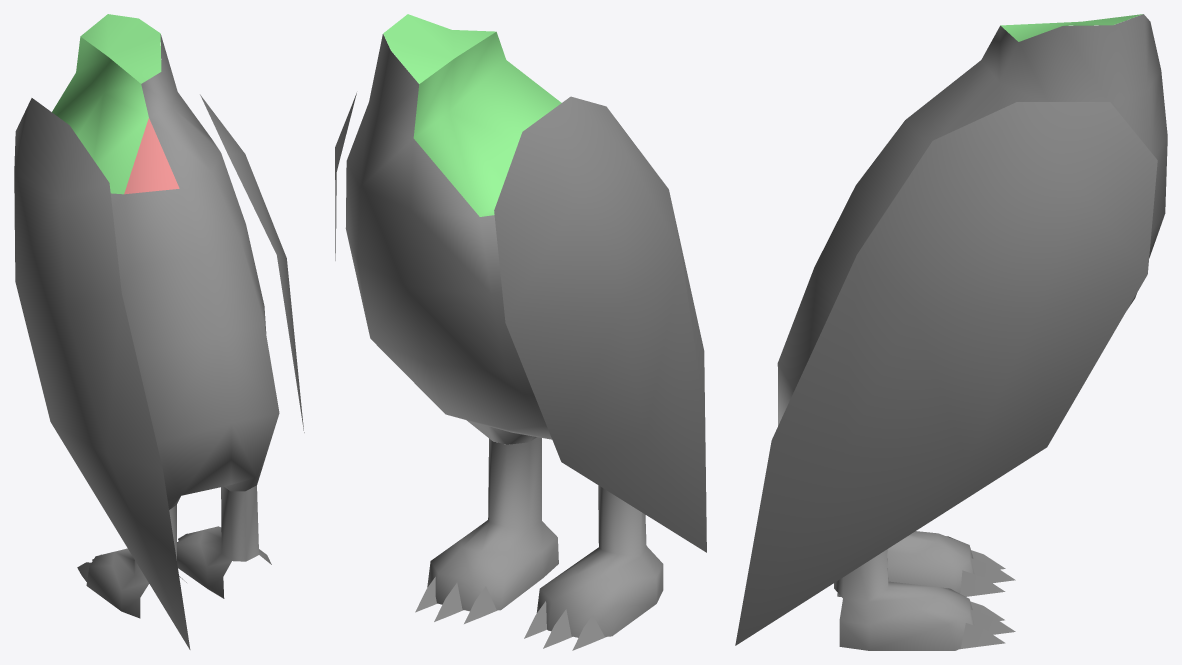
Rendered from SSQ_statue03_b01.gltf.
3 renders of one model, left to right at view 1: azimuth 30°, elevation 25°; view 2: azimuth 150°, elevation 25°; view 3: azimuth 270°, elevation 25°, orthographic. The views are drawn at different scales.
Parts seen in each view (by area): view 1: SSQ_statue03_b01; view 2: SSQ_statue03_b01; view 3: SSQ_statue03_b01.
Boxes of the visible parts, box(x1,y1,x2,y2) form: SSQ_statue03_b01: box(14, 14, 304, 649); SSQ_statue03_b01: box(335, 14, 706, 650); SSQ_statue03_b01: box(735, 14, 1167, 650).
Size of the model in its own units: 0.4246 by 0.9005 by 0.5768.
